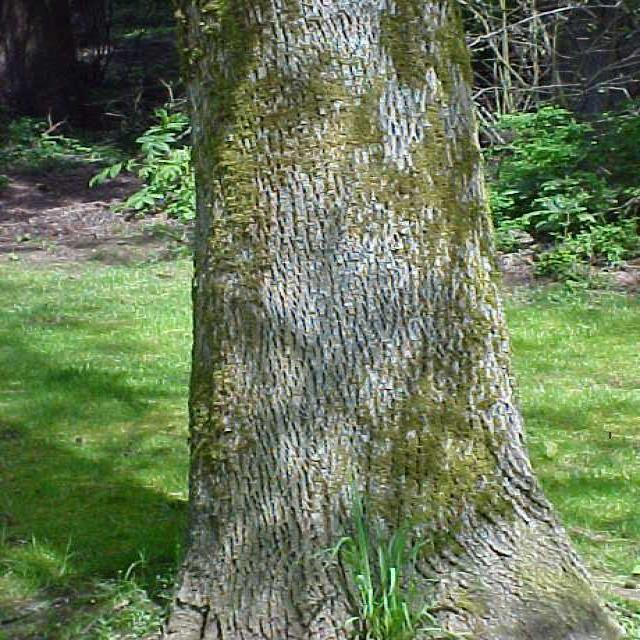Fraxinus latifolia: (179, 5, 587, 640)
